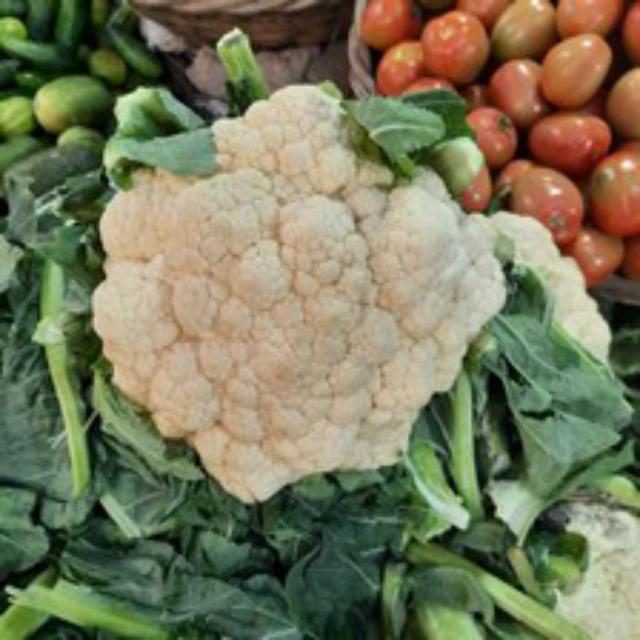cauliflower: (88, 77, 520, 504)
